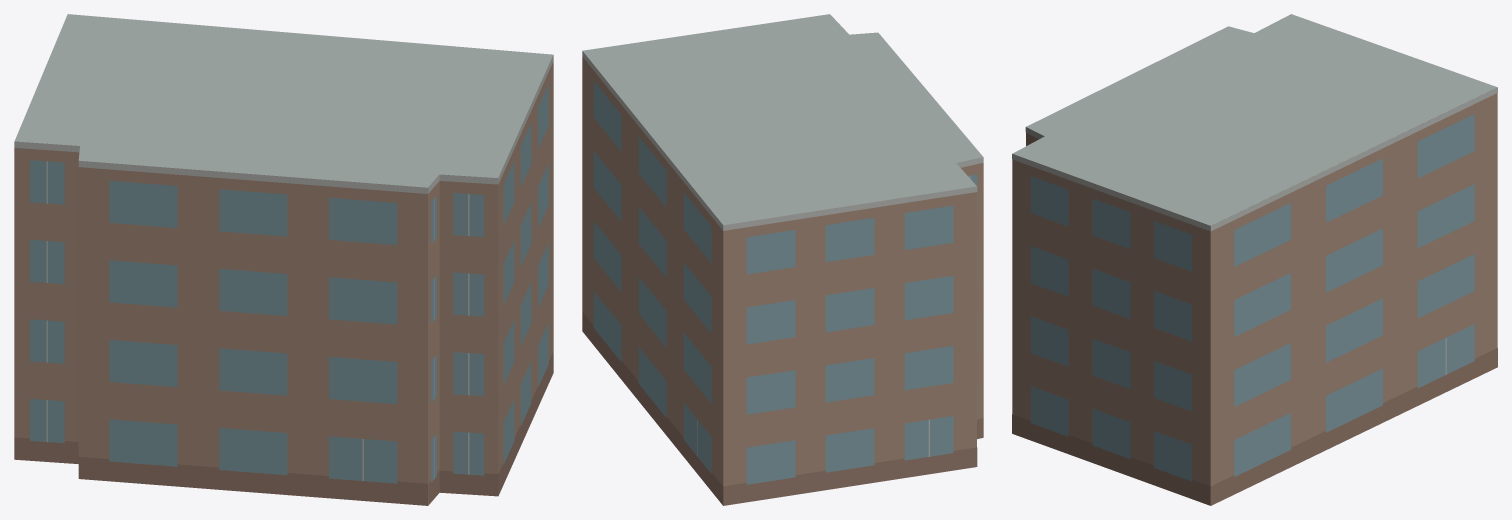
The model's file is survey-upis-32674944.glb.
The picture shows the model from 3 angles, left to right: view 1: azimuth 30°, elevation 25°; view 2: azimuth 150°, elevation 25°; view 3: azimuth 270°, elevation 25°; orthographic projection. The views are drawn at different scales.
Visible parts, largest first — view 1: survey-upis-32674944.tmp; view 2: survey-upis-32674944.tmp; view 3: survey-upis-32674944.tmp.
Boxes of the visible parts, x1,y1,x2,y2 form: survey-upis-32674944.tmp: (14, 14, 553, 505); survey-upis-32674944.tmp: (582, 14, 983, 505); survey-upis-32674944.tmp: (1012, 14, 1497, 505).
Size of the model in its own units: 19.81 by 12.2 by 19.18.
